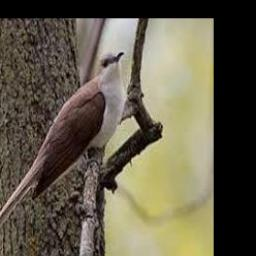Cuckoo: (0, 51, 125, 256)
